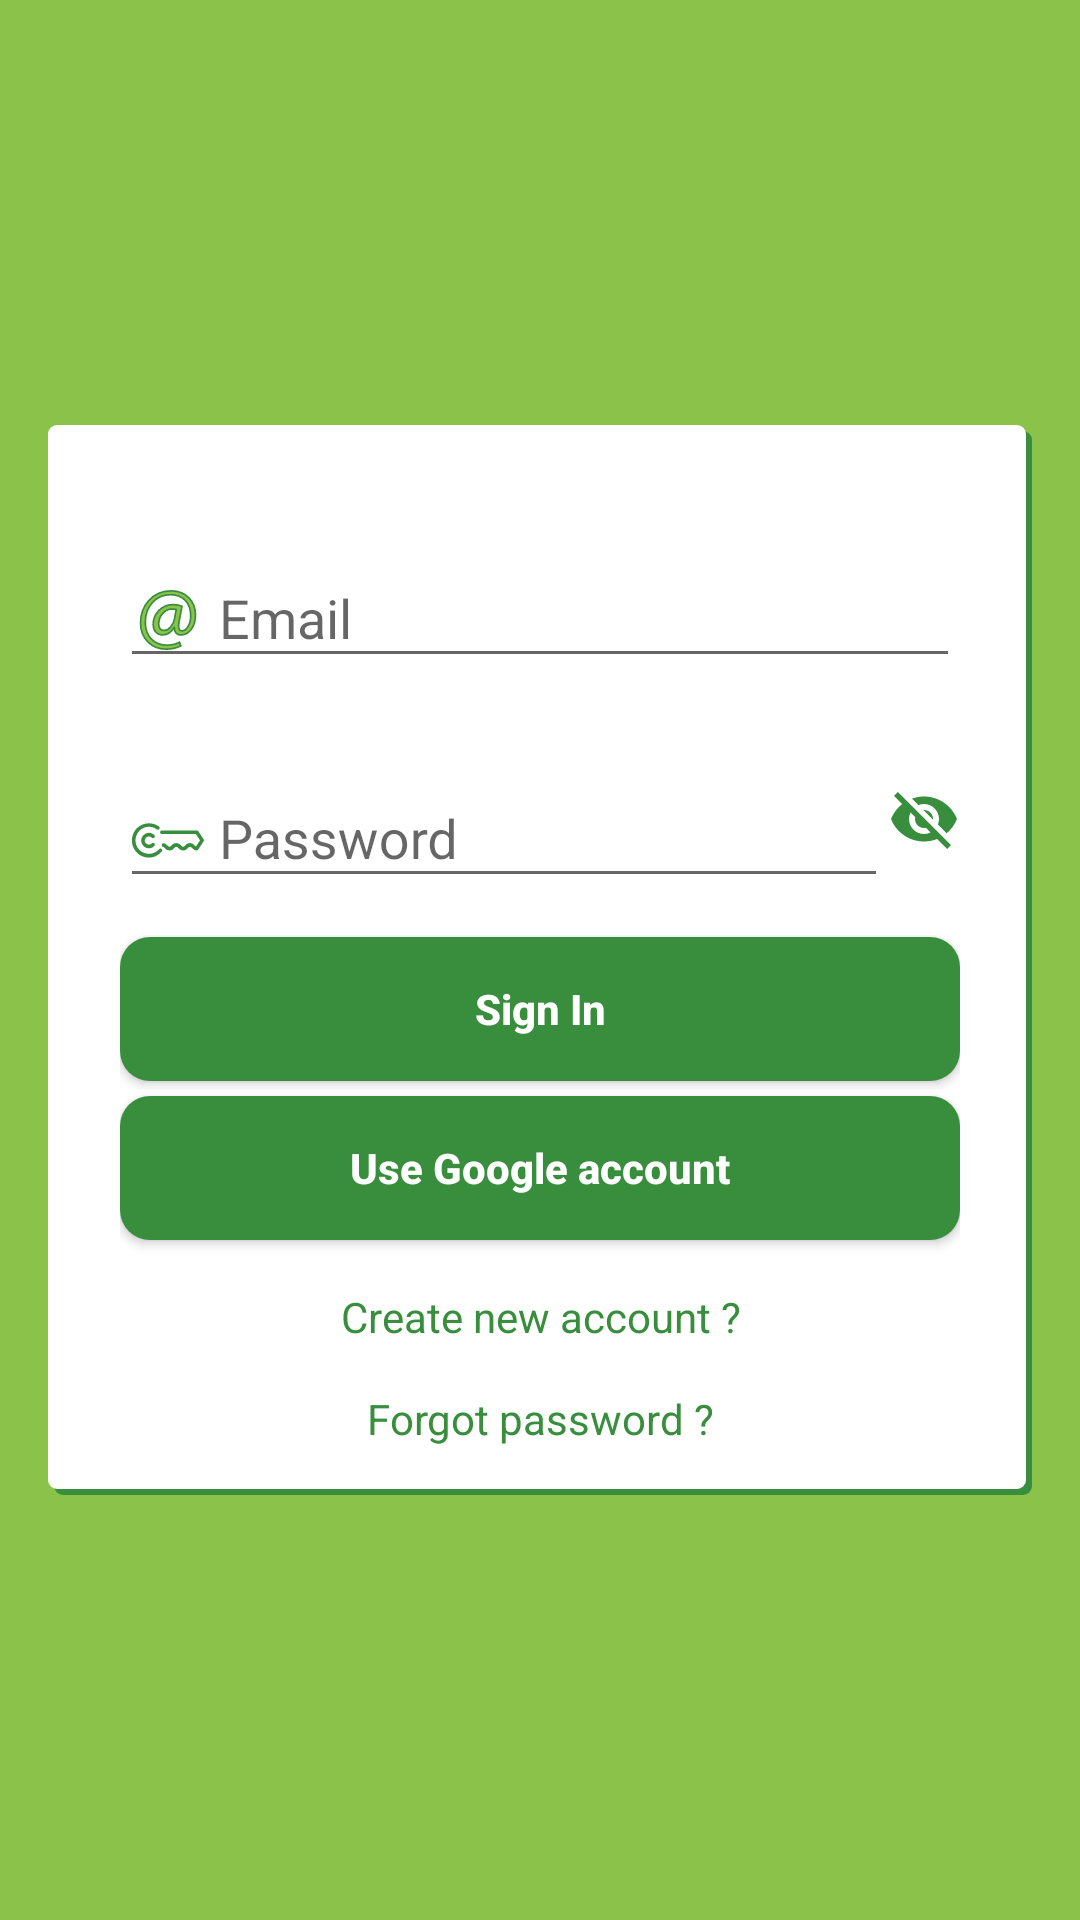

Point at icon controls on the screen. Image size 1080w x 1920h, points as point (x, y).
eye hidden: point (924, 820)
